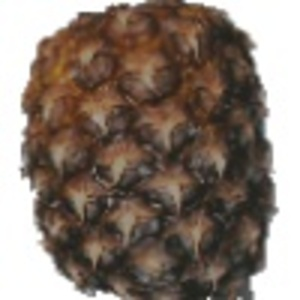abacaxi: (14, 1, 280, 295)
